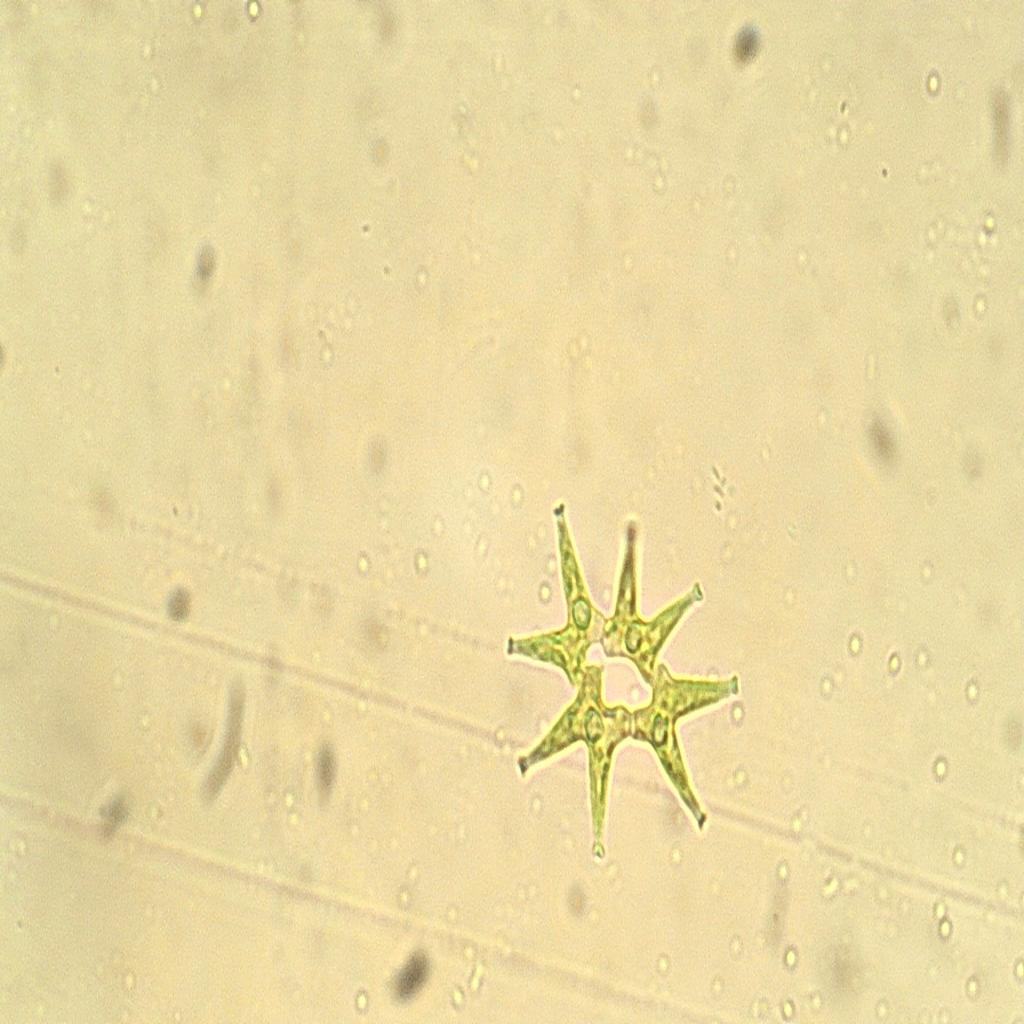Pediastrum_75FO: (496, 488, 752, 870)
